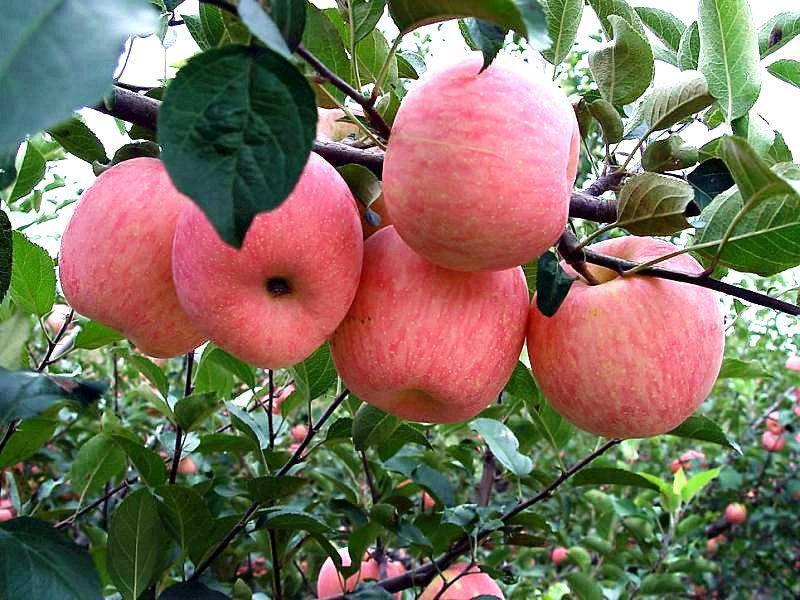apple: (171, 147, 365, 373), (382, 63, 582, 273), (521, 237, 727, 437), (330, 224, 530, 425), (59, 156, 209, 358), (723, 502, 745, 523)
